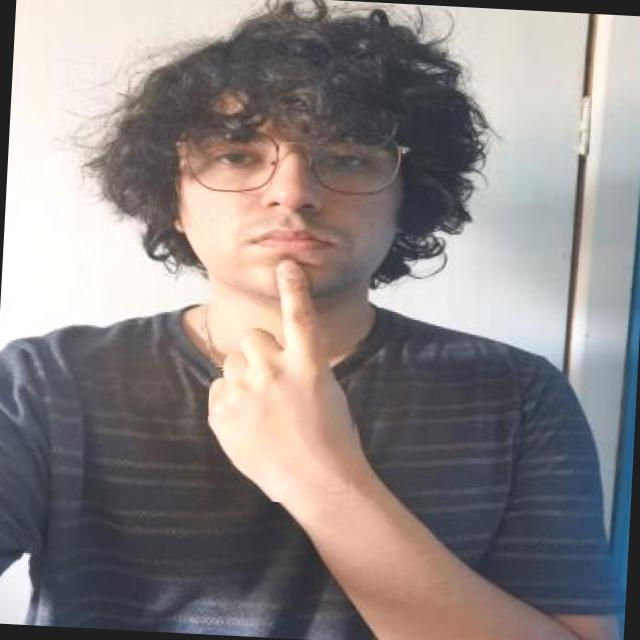T: (204, 258, 366, 507)
